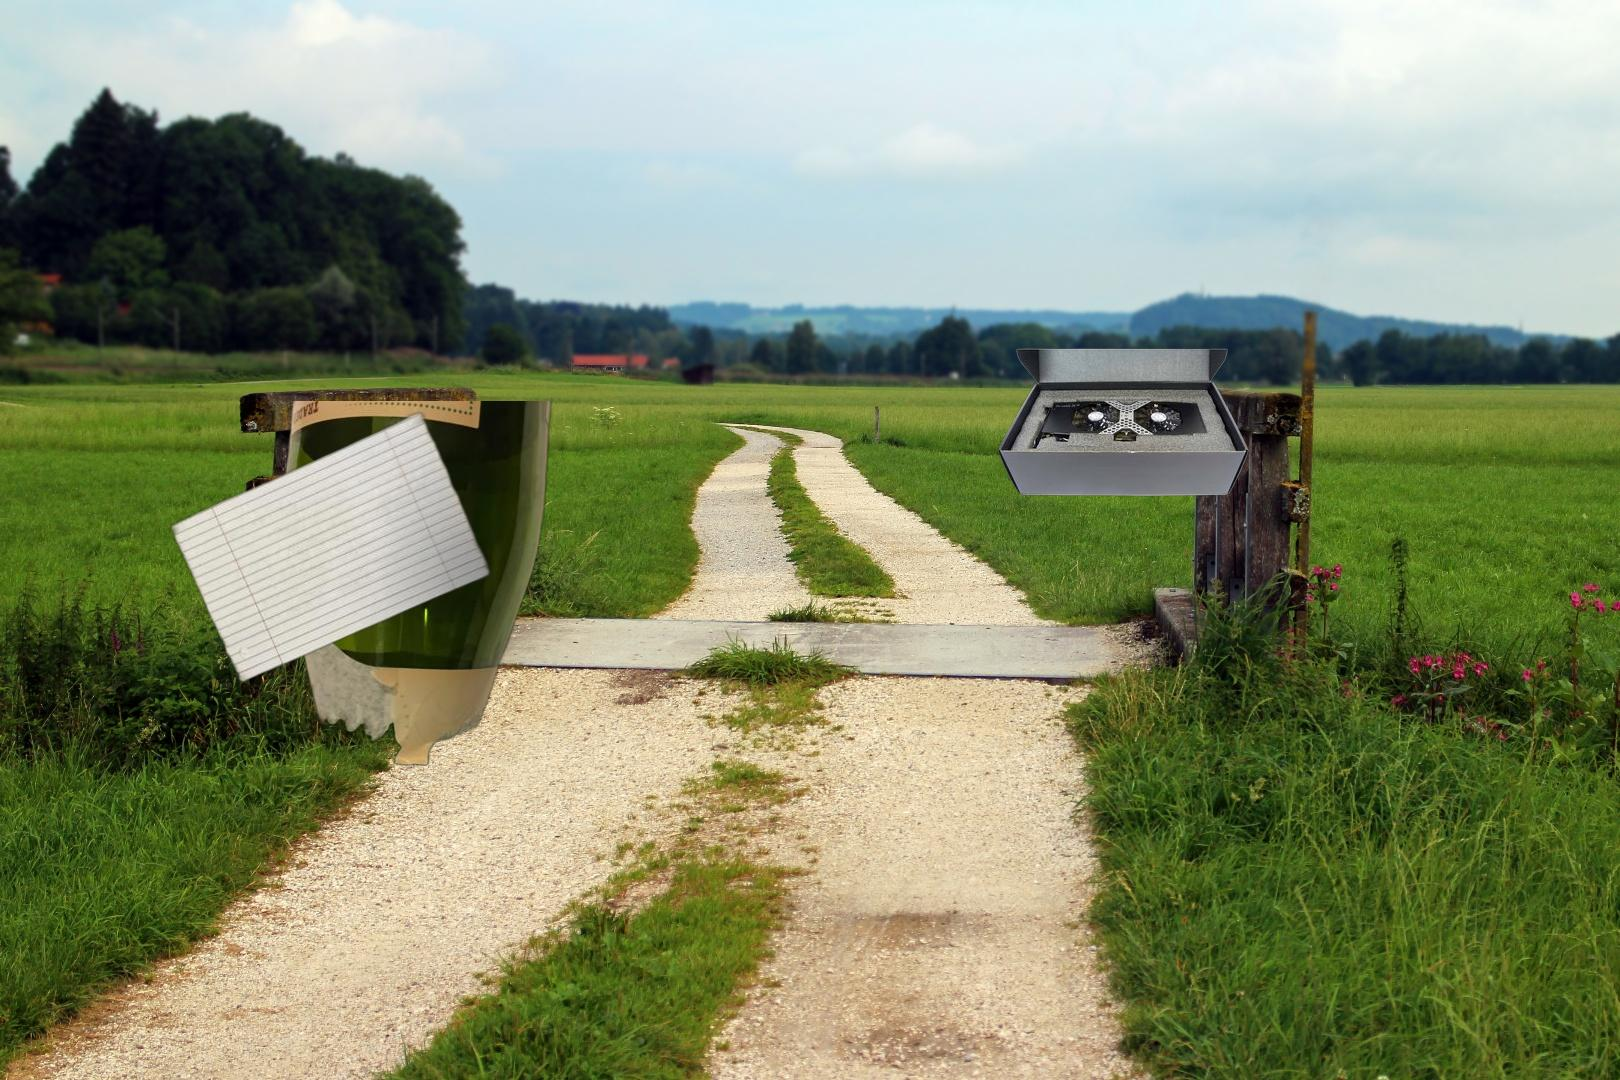glass: (278, 401, 556, 785)
paper: (166, 409, 495, 686)
trashbox-cardboard: (999, 345, 1249, 568)
